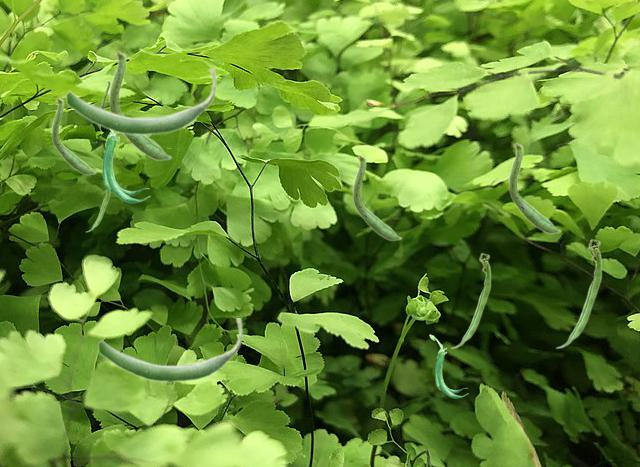french_bean: (65, 68, 216, 135), (97, 318, 242, 382), (108, 50, 171, 160), (555, 238, 601, 348), (508, 142, 560, 233), (352, 154, 401, 240), (450, 252, 490, 348), (51, 97, 95, 174), (102, 132, 149, 202), (429, 334, 467, 397), (85, 190, 109, 231), (97, 80, 109, 134)
